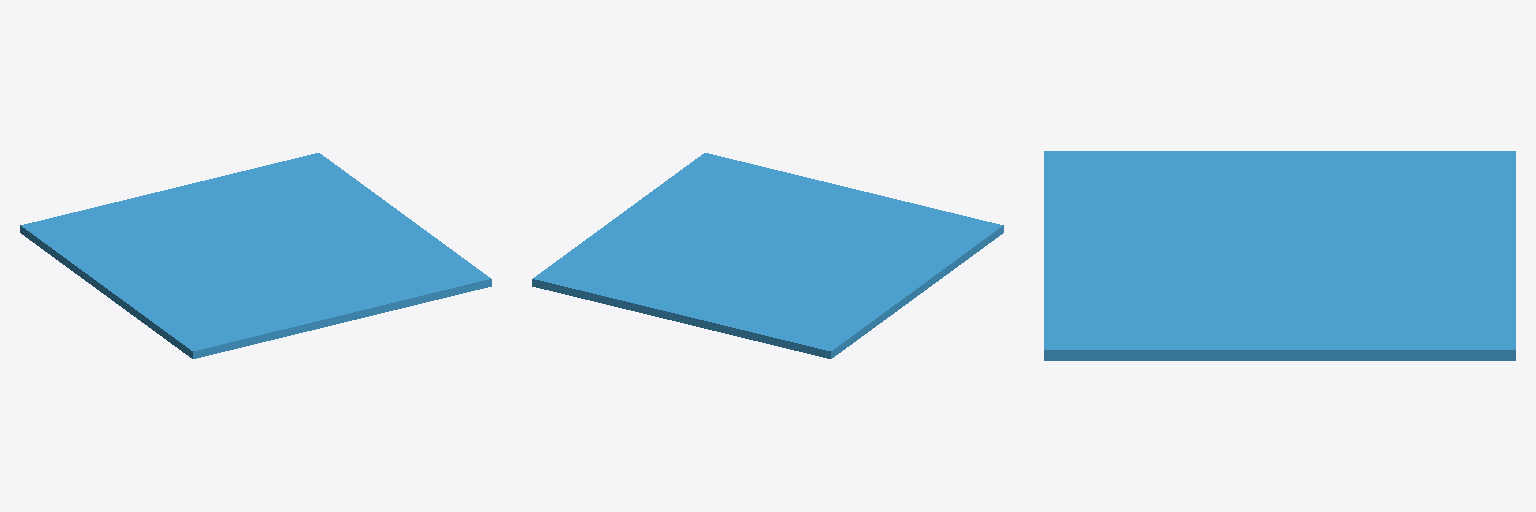
robot.urdf — coil:
<robot name="coil">
  <link name="coil">
    <inertial>
      <origin xyz="0 0 0" />
      <mass value="0.0" />
      <inertia  ixx="0.0" ixy="0.0"  ixz="0.0"  iyy="0.0"  iyz="0.0"  izz="0.0" />
    </inertial>
    <visual>
      <origin xyz="-0.2 -0.15 0.1" rpy="1.5 0 -0.7"/>
        <geometry>
            <mesh filename="package://hotspray_description/meshes/coil.stl" scale="0.0015 0.0015 0.0015" />
        </geometry>
      </visual>
      <collision>
      <origin xyz="-0.2 -0.15 0.1" rpy="1.5 0 -0.7"/>
        <geometry>
            <mesh filename="package://hotspray_description/meshes/coil.stl" scale="0.0015 0.0015 0.0015" />
        </geometry>
      </collision>
    </link>

  <link name="base">
    <inertial>
      <origin xyz="0 0 0" />
      <mass value="1.0" />
      <inertia  ixx="1.0" ixy="1.0"  ixz="1.0"  iyy="1.0"  iyz="1.0"  izz="1.0" />
    </inertial>
    <visual>
      <origin xyz="-0.2 -0.2 0.0"/>
        <geometry>
          <box size="0.4 0.4 0.01" />
        </geometry>
      </visual>
      <collision>
      <origin xyz="-0.2 -0.2 0.0"/>
        <geometry>
          <box size="0.4 0.4 0.01" />
        </geometry>
      </collision>
    </link>

    <joint name="base_to_coil" type="fixed">
      <origin xyz="0 0 0" />
      <parent link="base" />
      <child link="coil" />
    </joint>

    <gazebo reference="coil">
      <material>Gazebo/Red</material>
    </gazebo>
</robot>

--- Facts derived from the render (not from the file) ---
The picture shows the robot from 3 angles, left to right: view 1: azimuth 30°, elevation 25°; view 2: azimuth 150°, elevation 25°; view 3: azimuth 270°, elevation 25°; orthographic projection.
Robot: coil — 2 links, 1 joints (1 fixed); root link base; default pose: all joints at 0.
Visible links, largest first — view 1: base; view 2: base; view 3: base.
Boxes of the visible links, x1,y1,x2,y2 form: base: [20, 153, 491, 358]; base: [532, 153, 1003, 358]; base: [1044, 151, 1515, 360].
Bounding box of the posed robot: 0.4 × 0.4 × 0.01 m (x, y, z).
Meshes: 1 distinct files referenced, 0 mesh visuals loaded (none loaded); not drawn: 1 (reference not matched to a file when rendering).